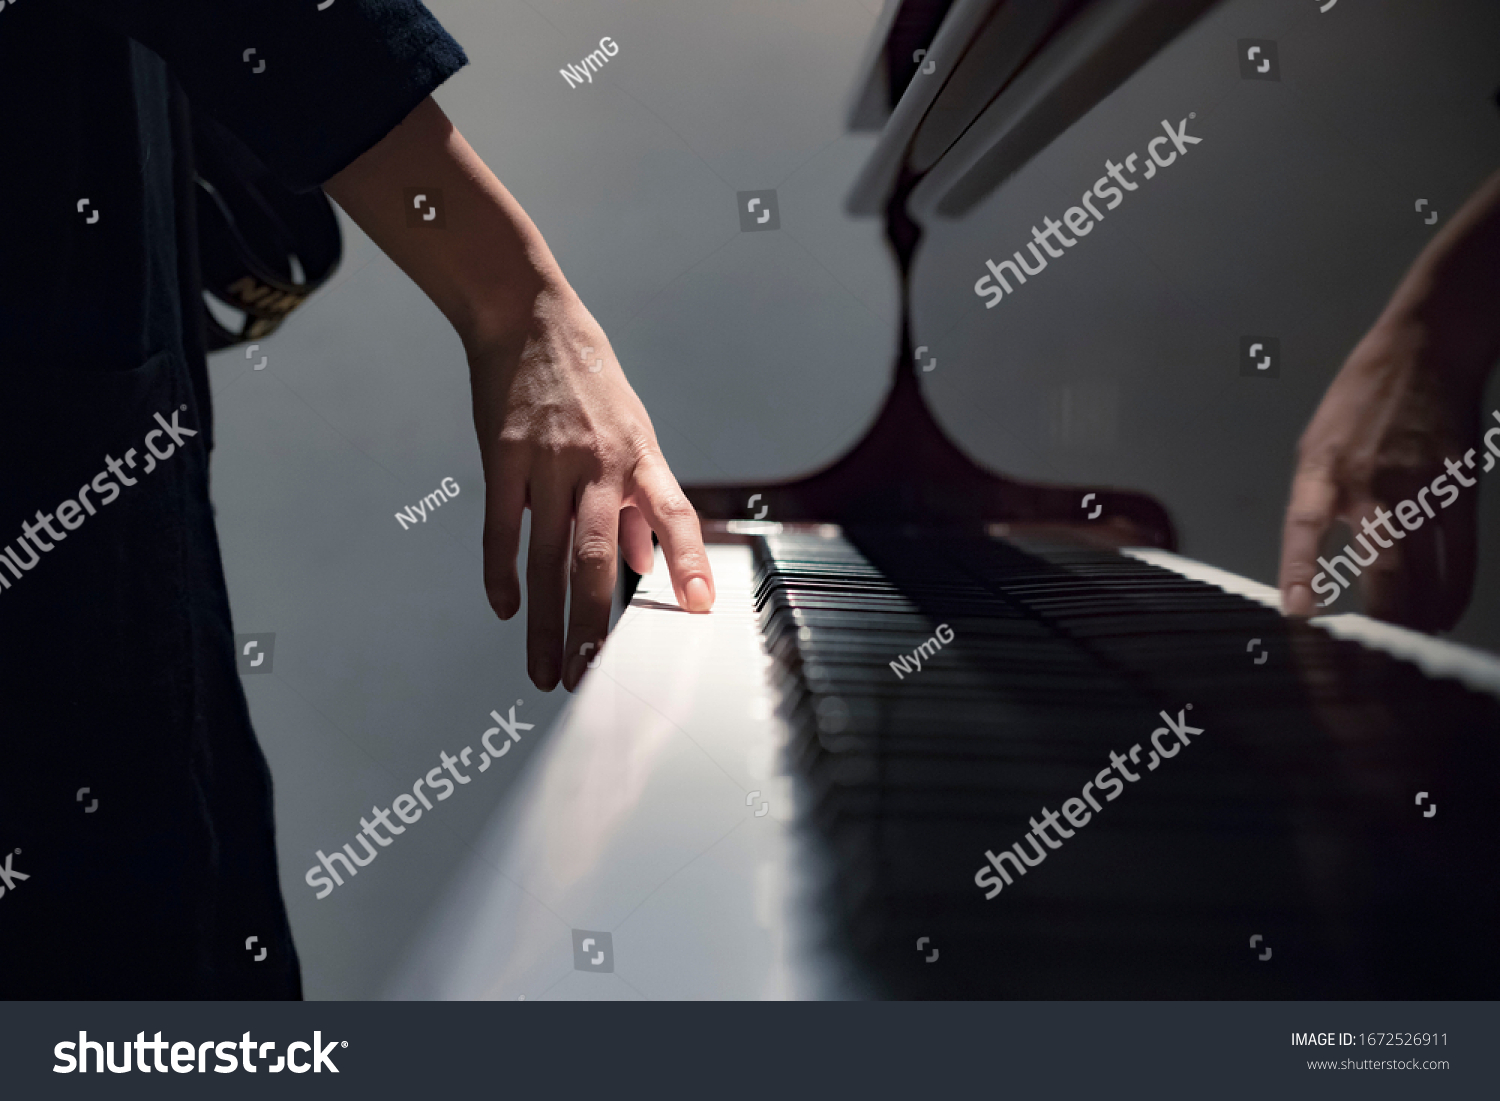Piano: (443, 330, 1186, 1011)
